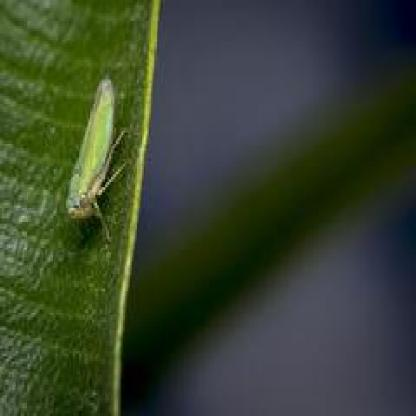Green-Leafhopper: (62, 71, 131, 240)
